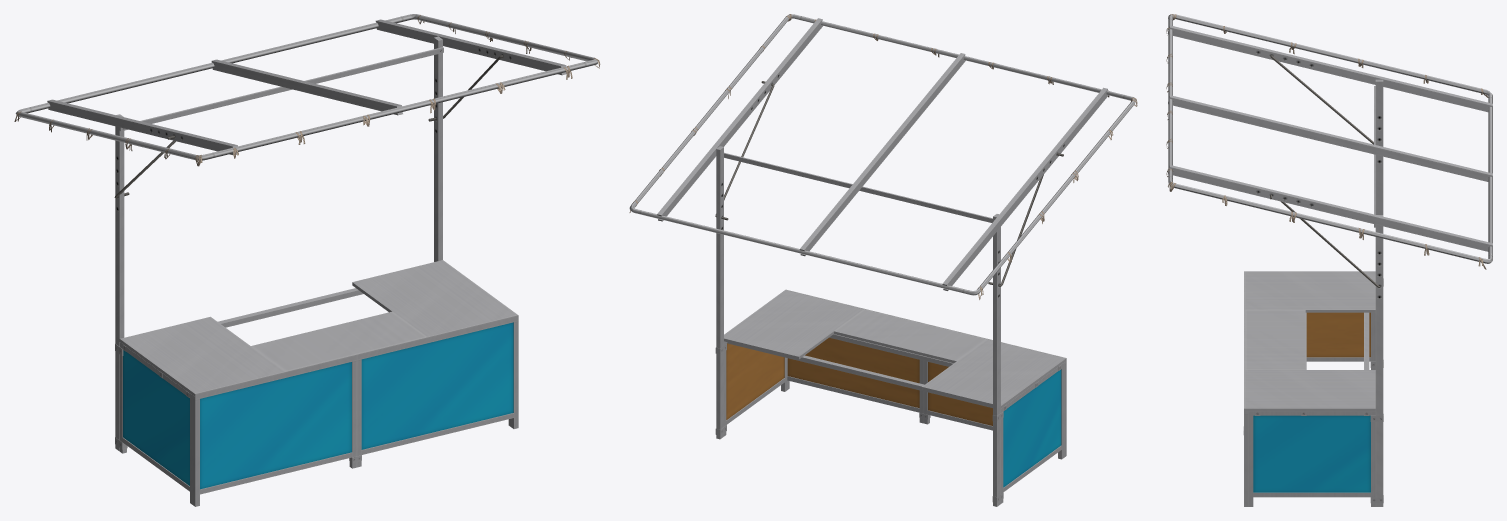
Rendered from jsf_2P_s02_c02_t04.fbx.
3 renders of one model, left to right at view 1: azimuth 30°, elevation 25°; view 2: azimuth 150°, elevation 25°; view 3: azimuth 270°, elevation 25°, orthographic. The views are drawn at different scales.
Visible parts, largest first — view 1: Base_s02_c02, Table_2P_s02_t04, Pillar2_s02, Rope_2P_s02; view 2: Pillar2_s02, Base_s02_c02, Table_2P_s02_t04; view 3: Pillar2_s02, Base_s02_c02, Table_2P_s02_t04, Rope_2P_s02.
Boxes of the visible parts, box(x1,y1,x2,y2) form: Base_s02_c02: box(115, 315, 518, 506); Table_2P_s02_t04: box(119, 260, 517, 397); Pillar2_s02: box(15, 14, 597, 451); Rope_2P_s02: box(14, 15, 600, 166); Pillar2_s02: box(629, 14, 1135, 506); Base_s02_c02: box(715, 289, 1066, 503); Table_2P_s02_t04: box(724, 290, 1065, 410); Pillar2_s02: box(1168, 14, 1492, 506); Base_s02_c02: box(1243, 271, 1383, 506); Table_2P_s02_t04: box(1245, 271, 1375, 415); Rope_2P_s02: box(1166, 14, 1488, 269).
Size of the model in its own units: 264 by 244 by 211.
